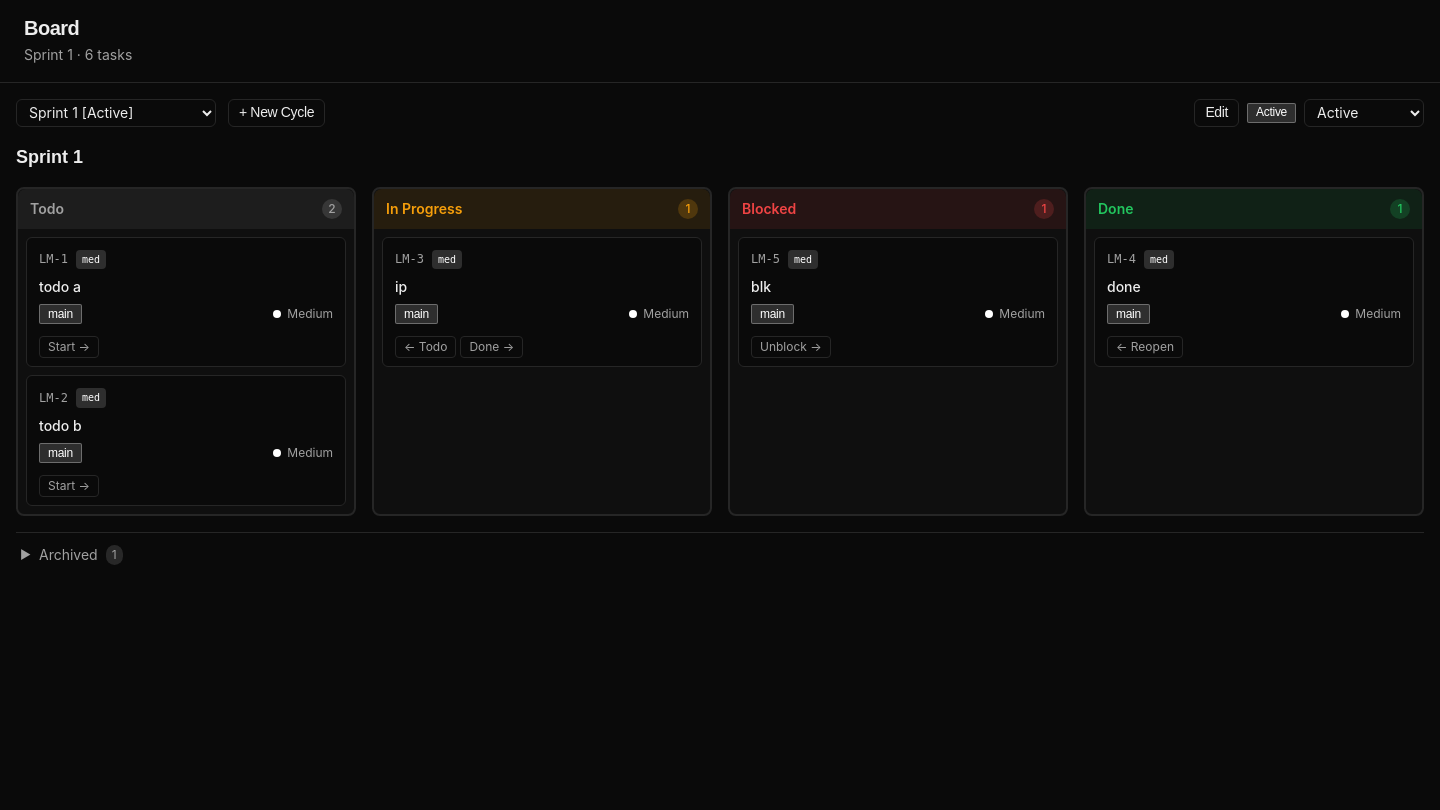
Scenario: BoardView › hides cancelled tasks behind the collapsible Archived section
expect the number of elements with test id "board-column" is 4: met, box [16,187,356,516]; [372,187,712,516]; [728,187,1068,516]; [1084,187,1424,516]
What coordinates should you click on to do the following:
click the button with test id "board-archived-toggle"
I would click on:
 (71, 555)
Its box is [16,541,127,569].
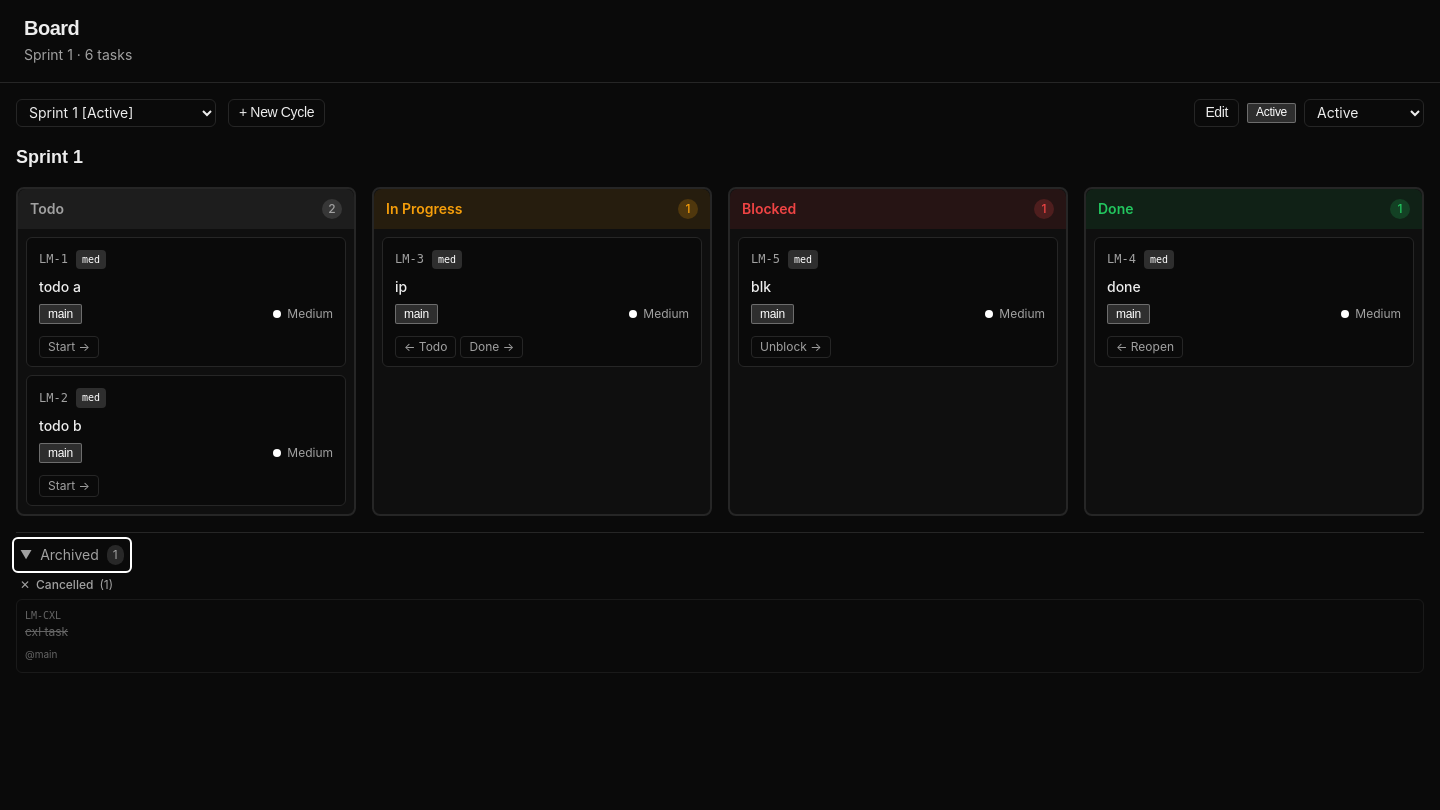
expect the number of buttons with test id "board-archived-task" is 1: met, box [16,599,1424,674]
expect the button with test id "board-archived-task" shows "cxl task": met, box [16,599,1424,674]
